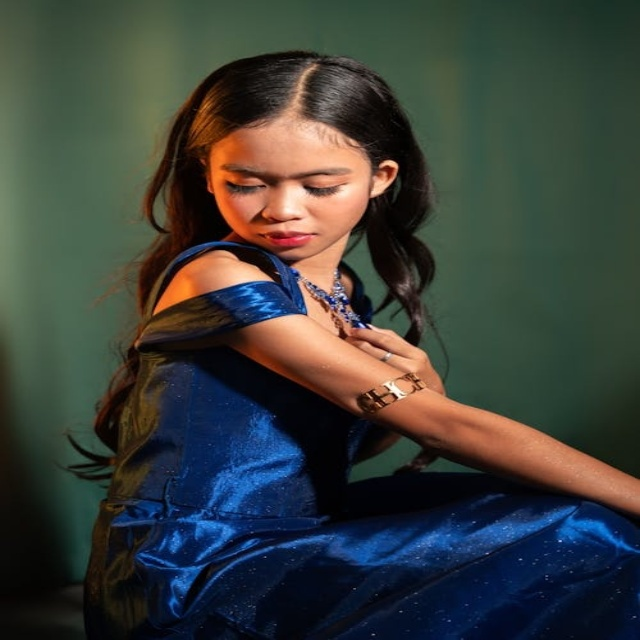Sin_gafas: (210, 160, 352, 201)
Sin_guantes: (343, 320, 466, 406)
Sin_mascara: (246, 222, 326, 252)
